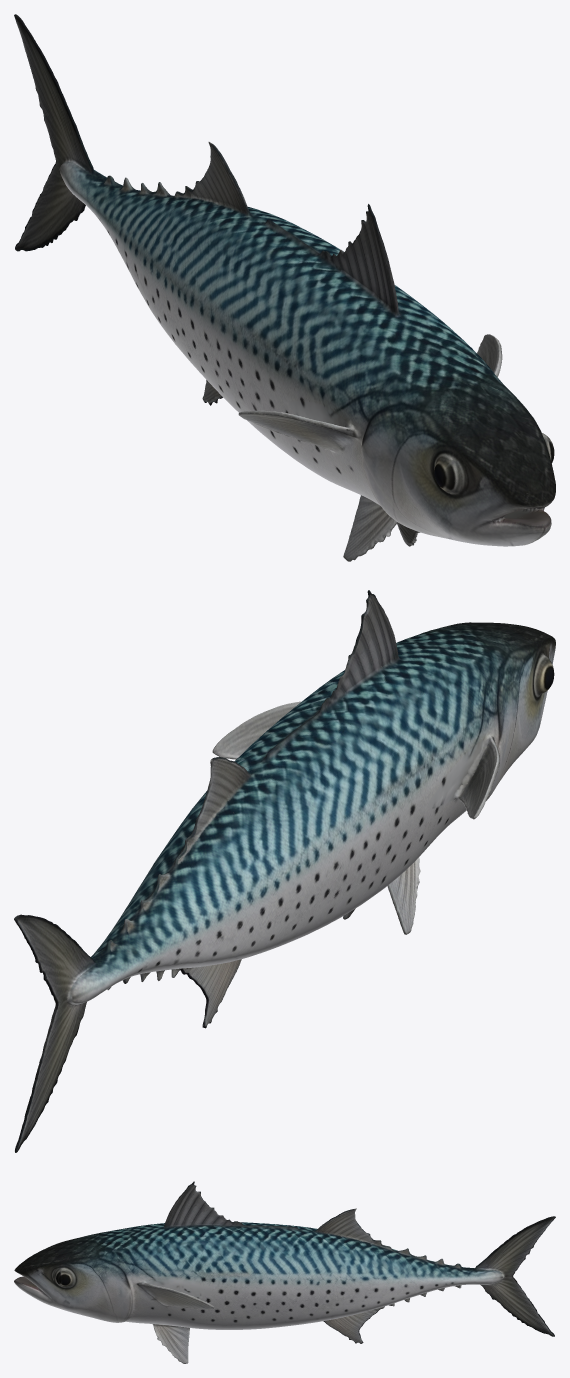
File: gomasaba-8781f2a5d594.glb
3 renders of one model, top to bottom at view 1: azimuth 30°, elevation 25°; view 2: azimuth 150°, elevation 25°; view 3: azimuth 270°, elevation 25°, orthographic. The views are drawn at different scales.
Bounding box in the file's own units: 0.5311 × 0.677 × 1.9.
1 material, 1 textured.
